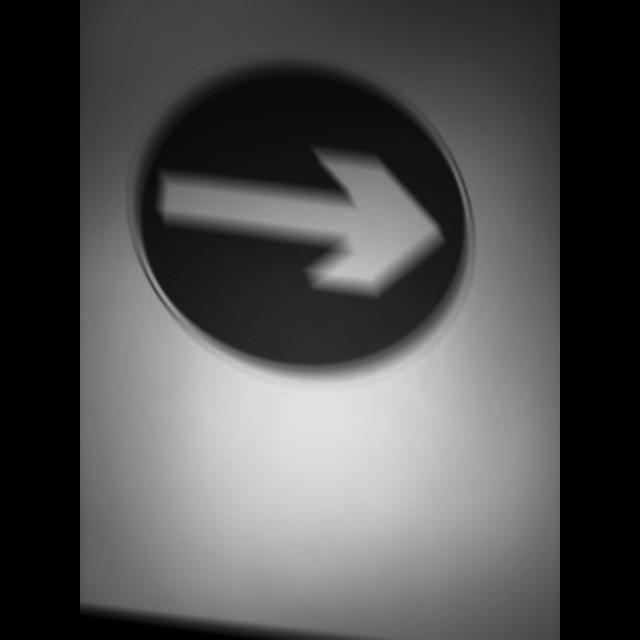TURN RIGHT: (126, 52, 478, 386)
